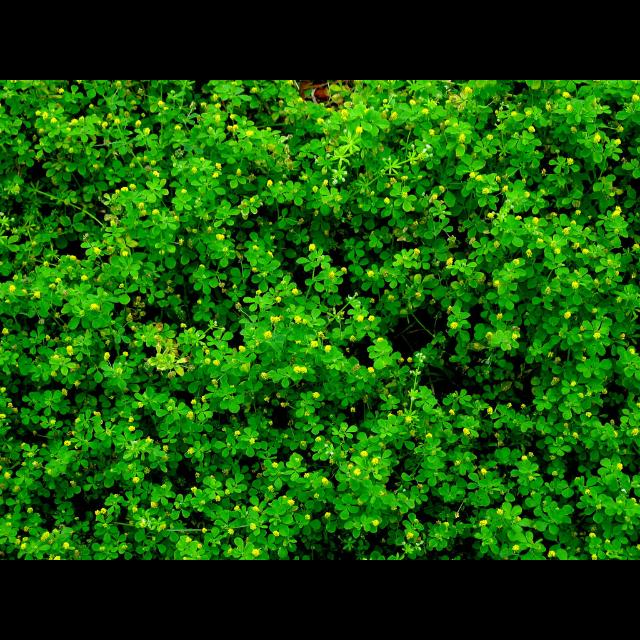Flower: (1, 80, 640, 560), (362, 450, 368, 456), (253, 548, 257, 554)
